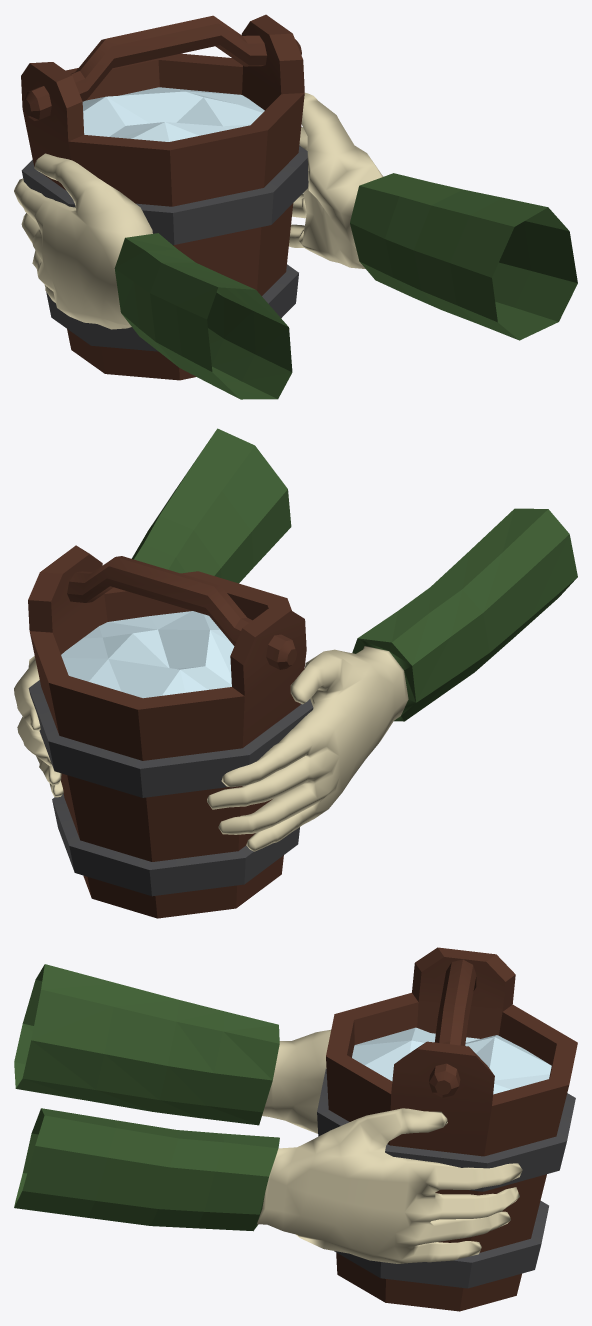
Rendered from EquipedEmptyBucketSnow.fbx.
3 renders of one model, top to bottom at view 1: azimuth 30°, elevation 25°; view 2: azimuth 150°, elevation 25°; view 3: azimuth 270°, elevation 25°, orthographic. The views are drawn at different scales.
Visible parts, largest first — view 1: EquipedEmptyBucketSnow; view 2: EquipedEmptyBucketSnow; view 3: EquipedEmptyBucketSnow.
Boxes of the visible parts, x1,y1,x2,y2 form: EquipedEmptyBucketSnow: [14, 14, 577, 399]; EquipedEmptyBucketSnow: [14, 428, 577, 918]; EquipedEmptyBucketSnow: [14, 947, 577, 1311].
Bounding box in the file's own units: 1.38 × 1.14 × 1.97.
Materials: 3 (3 with a texture image).
